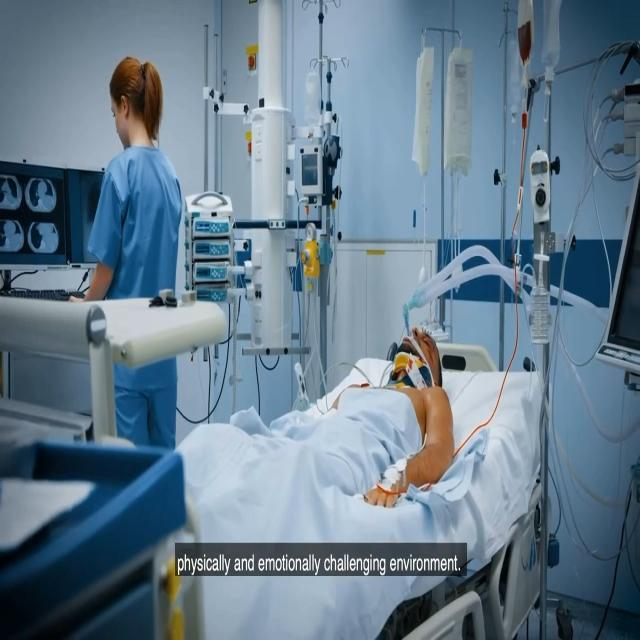Movement-NO: (337, 279, 472, 506)
